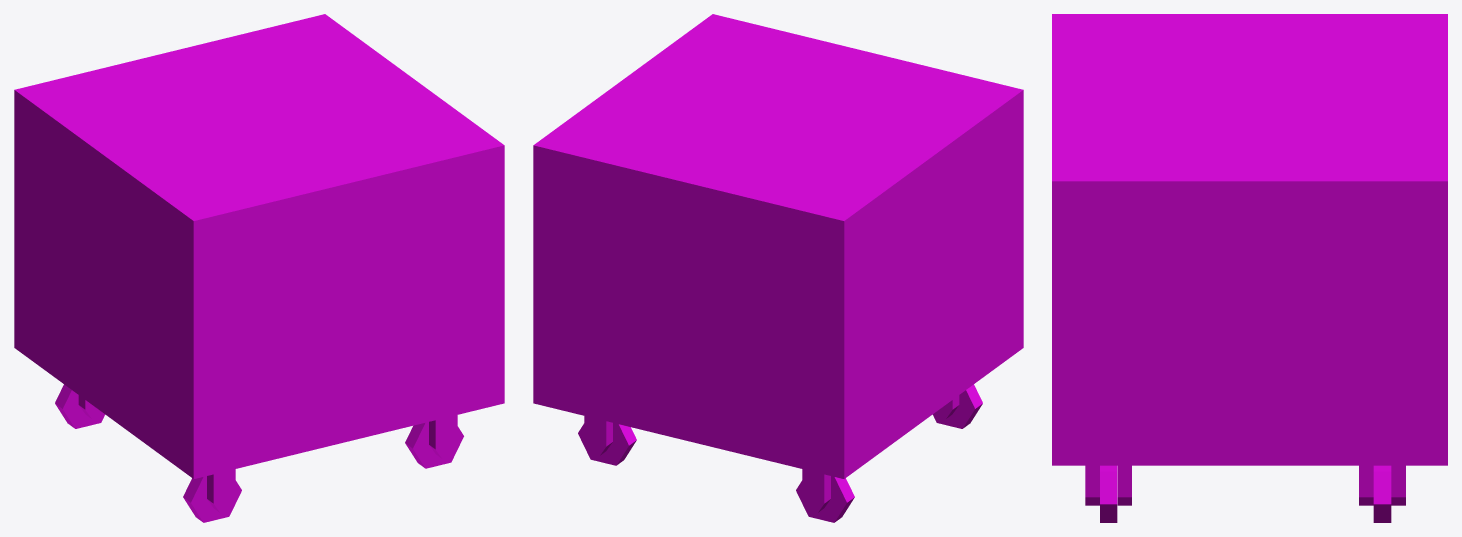
File: SM_Box_Wheel_100_100.fbx
3 renders of one model, left to right at view 1: azimuth 30°, elevation 25°; view 2: azimuth 150°, elevation 25°; view 3: azimuth 270°, elevation 25°, orthographic. The views are drawn at different scales.
Visible parts, largest first — view 1: pCube51; view 2: pCube51; view 3: pCube51.
Boxes of the visible parts, <box> form: pCube51: <box>14,14,504,522</box>; pCube51: <box>533,14,1023,522</box>; pCube51: <box>1052,14,1447,522</box>.
Bounding box in the file's own units: 1 × 1 × 1.
